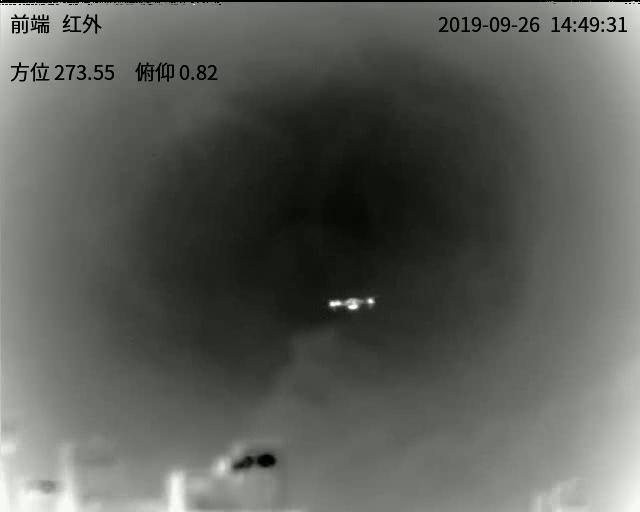DRONE: (327, 296, 376, 313)
